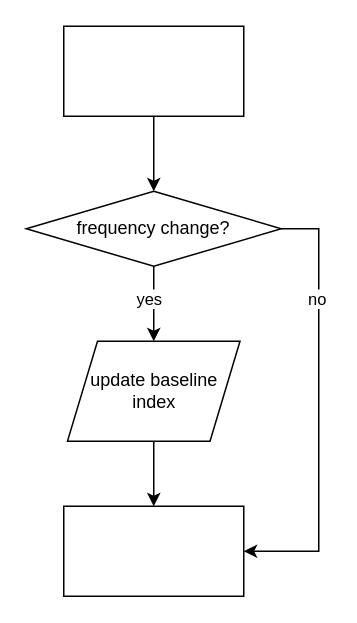
The diagram is 357 pixels wide and 623 high, and some of its shapes have lost their labels. Each missing label, with the box of its shape:
baseline update: (62, 505, 244, 596)
frequency hoping: (62, 25, 244, 116)
